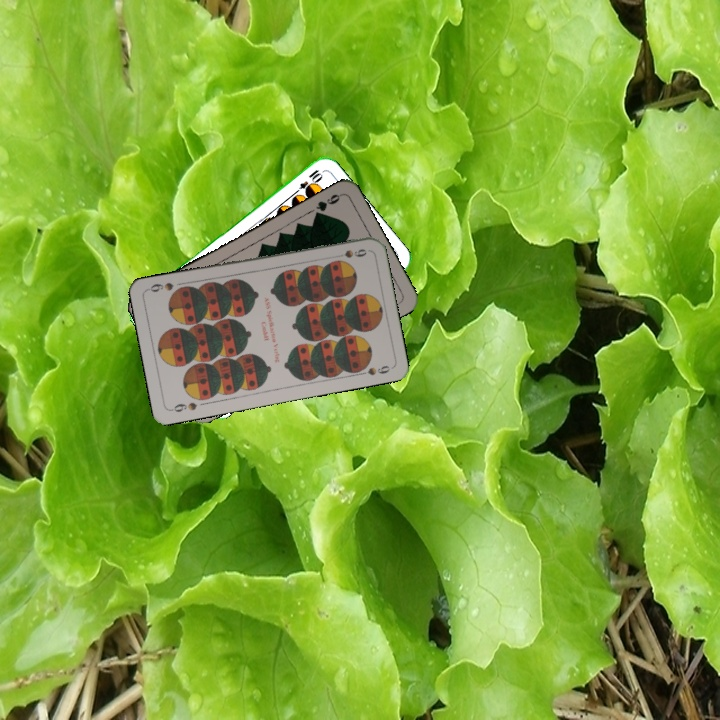E10: (290, 165, 325, 199)
G9: (310, 190, 344, 221)
S9: (167, 398, 200, 415), (340, 245, 369, 260)
